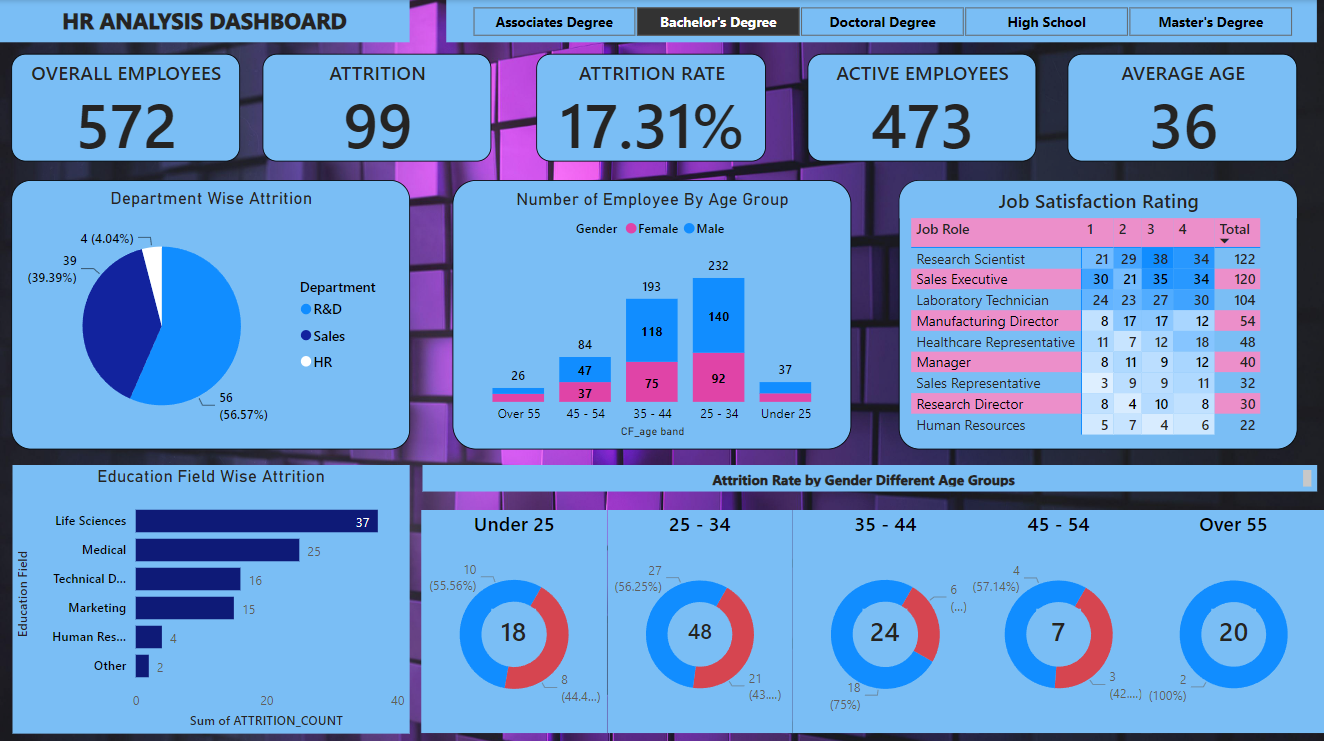

The page's visual inventory and layout, read from the dashboard file:
{"tool":"powerbi","page":{"name":"Page 1","canvas":[1280,720],"ordinal":0},"visuals":[{"type":"card","title":"OVERALL EMPLOYEES","fields":{"Values":["Sum(HR data.Employee Count)"]},"box":[10.3,51.3,220.5,103.8],"z":0},{"type":"card","title":"ATTRITION RATE","fields":{"Values":["HR data.ATTRITION RATE"]},"box":[517.9,51.3,221.8,103.8],"z":1000},{"type":"card","title":"ATTRITION","fields":{"Values":["Sum(HR data.ATTRITION_COUNT)"]},"box":[253.8,51.3,220.5,103.8],"z":2000},{"type":"card","title":"ACTIVE EMPLOYEES","fields":{"Values":["HR data.Active Employees"]},"box":[779.5,51.3,220.5,103.8],"z":3000},{"type":"card","title":"AVERAGE AGE","fields":{"Values":["Avg(HR data.Age)"]},"box":[1029.5,51.3,221.8,103.8],"z":4000},{"type":"pieChart","title":"Department Wise Attrition","fields":{"Category":["HR data.Department"],"Y":["Sum(HR data.ATTRITION_COUNT)"]},"box":[10.3,173.1,384.6,260.3],"z":5000},{"type":"columnChart","title":"Number of Employee By Age Group","fields":{"Category":["HR data.CF_age band"],"Y":["Sum(HR data.Employee Count)"],"Series":["HR data.Gender"]},"box":[437.2,173.1,384.6,260.3],"z":6000},{"type":"pivotTable","title":"Job Satisfaction Rating","fields":{"Rows":["HR data.Job Role"],"Columns":["HR data.Job Satisfaction"],"Values":["Sum(HR data.Employee Count)"]},"box":[866.7,173.1,384.6,260.3],"z":7000},{"type":"barChart","title":"Education Field Wise Attrition","fields":{"Category":["HR data.Education Field"],"Y":["Sum(HR data.ATTRITION_COUNT)"]},"box":[11.5,448.7,383.3,259],"z":8000},{"type":"donutChart","title":"Under 25","fields":{"Category":["HR data.Gender"],"Y":["Sum(HR data.ATTRITION_COUNT)"],"Series":["HR data.CF_age band"]},"box":[406.4,492.3,179.5,215.4],"z":9000},{"type":"textbox","box":[407.7,448.7,862.8,25.6],"z":10000},{"type":"donutChart","title":"25  - 34","fields":{"Category":["HR data.Gender"],"Y":["Sum(HR data.ATTRITION_COUNT)"],"Series":["HR data.CF_age band"]},"box":[585.9,492.3,178.2,215.4],"z":11000},{"type":"donutChart","title":"35 - 44","fields":{"Category":["HR data.Gender"],"Y":["Sum(HR data.ATTRITION_COUNT)"],"Series":["HR data.CF_age band"]},"box":[764.1,492.3,179.5,215.4],"z":12000},{"type":"donutChart","title":"45 - 54","fields":{"Category":["HR data.Gender"],"Y":["Sum(HR data.ATTRITION_COUNT)"],"Series":["HR data.CF_age band"]},"box":[932.1,492.3,178.2,215.4],"z":13000},{"type":"donutChart","title":"Over 55","fields":{"Category":["HR data.Gender"],"Y":["Sum(HR data.ATTRITION_COUNT)"],"Series":["HR data.CF_age band"]},"box":[1101.3,492.3,178.2,215.4],"z":14000},{"type":"card","fields":{"Values":["Sum(HR data.ATTRITION_COUNT)"]},"box":[474.4,587.2,43.6,46.2],"z":15000},{"type":"card","fields":{"Values":["Sum(HR data.ATTRITION_COUNT)"]},"box":[832.1,587.2,43.6,46.2],"z":16000},{"type":"card","fields":{"Values":["Sum(HR data.ATTRITION_COUNT)"]},"box":[656.4,587.2,38.5,46.2],"z":17000},{"type":"card","fields":{"Values":["Sum(HR data.ATTRITION_COUNT)"]},"box":[1000,587.2,43.6,46.2],"z":18000},{"type":"card","fields":{"Values":["Sum(HR data.ATTRITION_COUNT)"]},"box":[1168.6,587.3,43.4,45.8],"z":19000},{"type":"textbox","box":[0,0,394.9,41],"z":20000},{"type":"slicer","fields":{"Values":["HR data.Education"]},"box":[430.8,0,839.7,41],"z":21000}]}

Visuals, with their boxes in screenshot pixels (x1, y1, x2, y2), scaled from the page's 1280x720 canvas onto the 1324x741 screenshot:
"OVERALL EMPLOYEES" card: 11,53,239,160
"ATTRITION RATE" card: 536,53,765,160
"ATTRITION" card: 263,53,491,160
"ACTIVE EMPLOYEES" card: 806,53,1034,160
"AVERAGE AGE" card: 1065,53,1294,160
"Department Wise Attrition" pieChart: 11,178,408,446
"Number of Employee By Age Group" columnChart: 452,178,850,446
"Job Satisfaction Rating" pivotTable: 896,178,1294,446
"Education Field Wise Attrition" barChart: 12,462,408,728
"Under 25" donutChart: 420,507,606,728
textbox: 422,462,1314,488
"25  - 34" donutChart: 606,507,790,728
"35 - 44" donutChart: 790,507,976,728
"45 - 54" donutChart: 964,507,1148,728
"Over 55" donutChart: 1139,507,1323,728
card - Sum(HR data.ATTRITION_COUNT): 491,604,536,652
card - Sum(HR data.ATTRITION_COUNT): 861,604,906,652
card - Sum(HR data.ATTRITION_COUNT): 679,604,719,652
card - Sum(HR data.ATTRITION_COUNT): 1034,604,1079,652
card - Sum(HR data.ATTRITION_COUNT): 1209,604,1254,652
textbox: 0,0,408,42
slicer - HR data.Education: 446,0,1314,42
